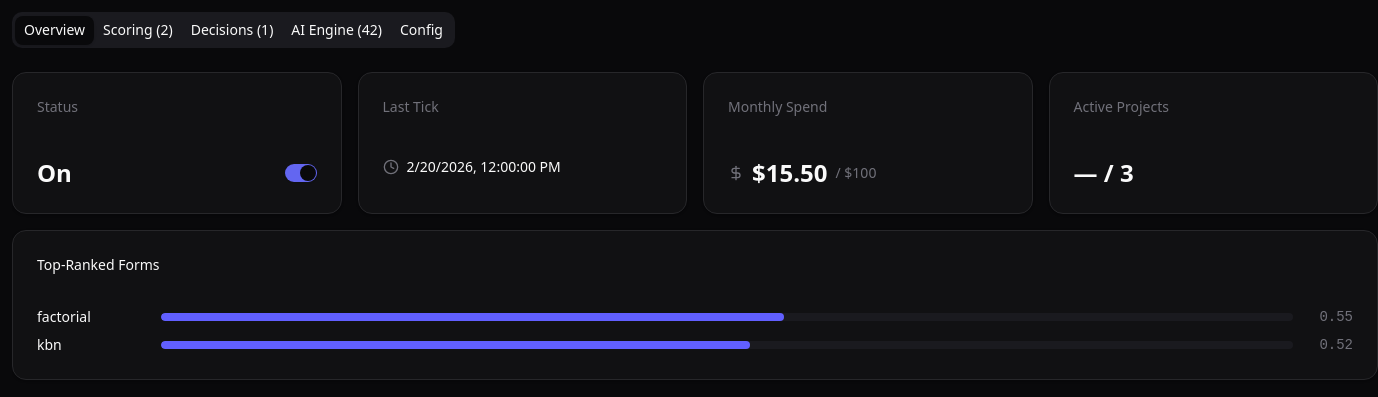
Scenario: StrategyPage › AI engine tab shows tick count
This screenshot has width=1378, height=397.
Click the tab "AI Engine (42)" at (337, 30), box [282,16,391,44]
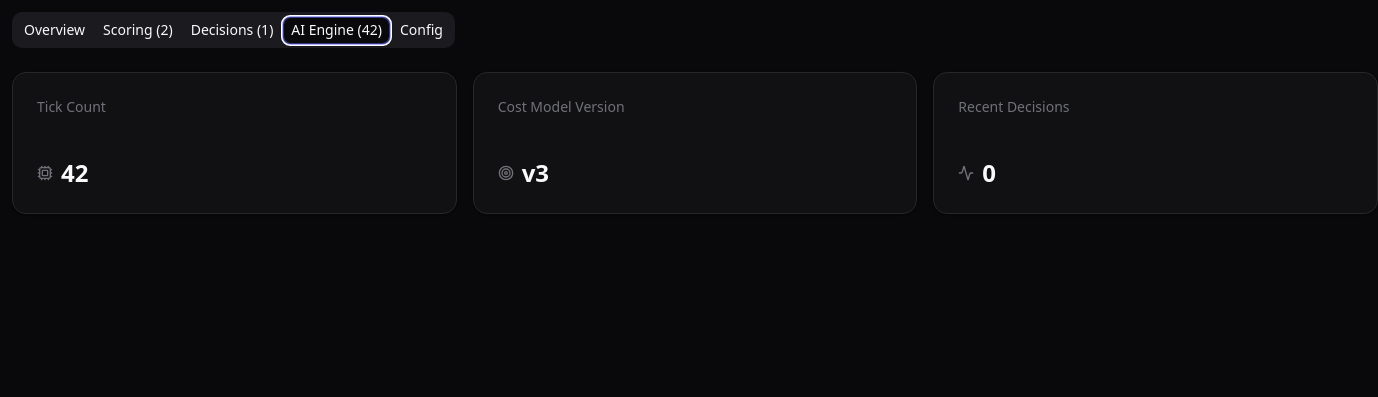
Result: the text "42" is shown at [61,157,88,189]
